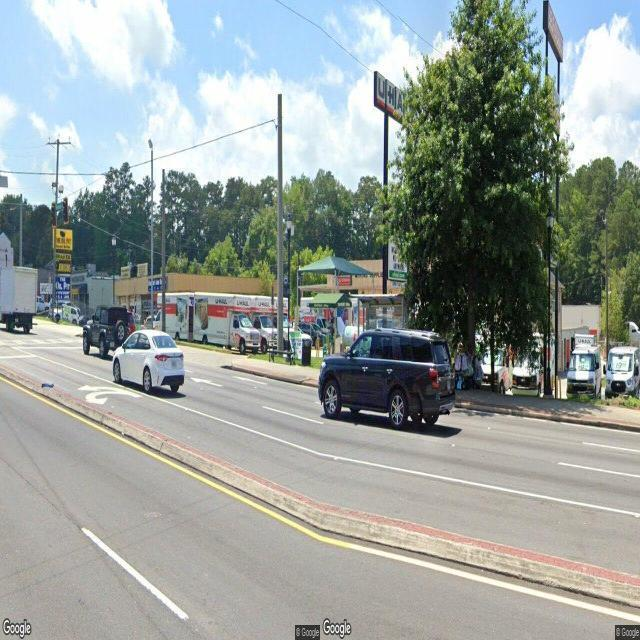seating: (268, 345, 296, 366)
trash_can: (302, 338, 312, 367)
